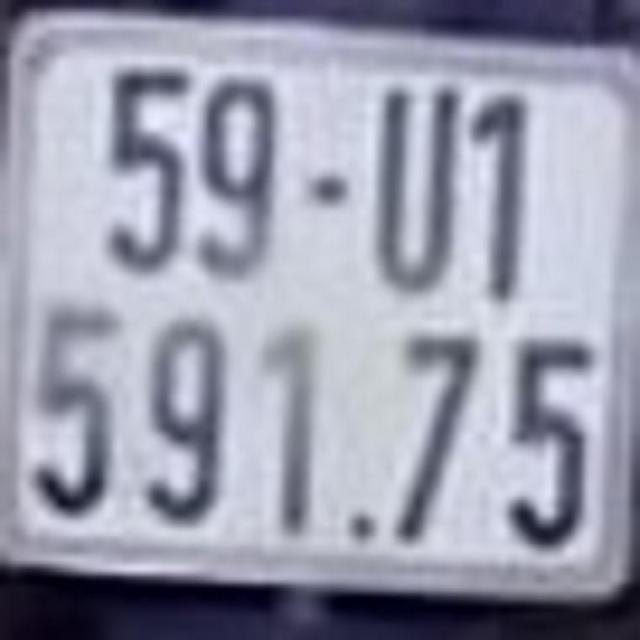1: (462, 73, 538, 304), (251, 314, 320, 536)
5: (511, 324, 596, 552), (107, 58, 192, 272), (37, 294, 116, 520)
7: (392, 322, 484, 549)
9: (198, 59, 278, 279), (147, 304, 226, 526)
U: (372, 73, 460, 296)
